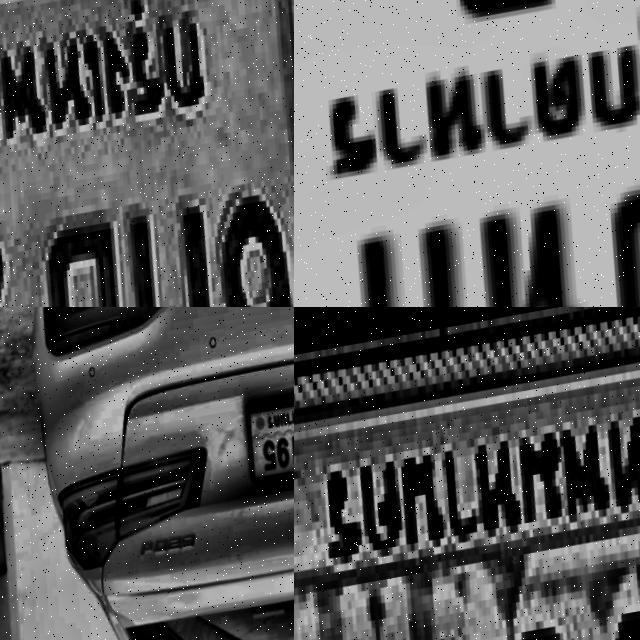license-plate: (294, 307, 640, 640), (294, 0, 640, 307), (0, 0, 294, 307), (241, 379, 294, 488)
